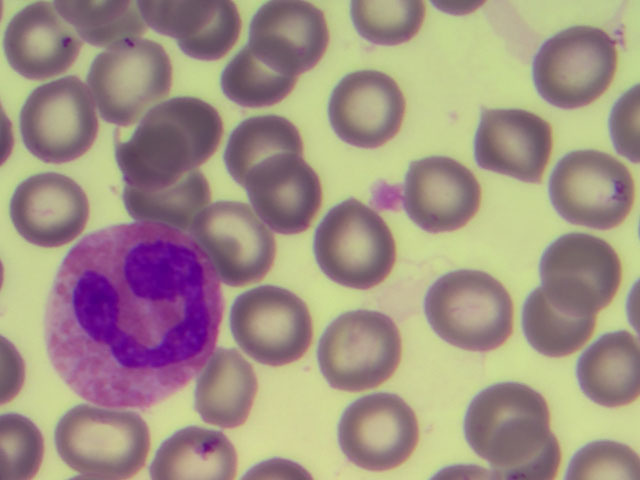Platelets: (387, 192, 401, 209)
RBC: (533, 24, 617, 113), (315, 199, 398, 287), (428, 270, 514, 351), (95, 35, 174, 123), (326, 67, 406, 153), (553, 150, 635, 233), (316, 311, 401, 391), (476, 102, 556, 187), (539, 235, 621, 316), (335, 394, 420, 471), (468, 386, 550, 464), (6, 171, 92, 245), (406, 157, 485, 237), (140, 98, 225, 170), (24, 79, 98, 161), (196, 202, 282, 270), (57, 410, 143, 475), (234, 287, 311, 356), (250, 157, 323, 229), (524, 285, 595, 359), (221, 41, 300, 107), (252, 5, 328, 70), (580, 326, 640, 407), (122, 164, 206, 221), (9, 1, 77, 70), (233, 120, 304, 186), (117, 126, 188, 191), (155, 429, 241, 480), (195, 358, 258, 426), (487, 423, 560, 480), (346, 1, 426, 48), (181, 1, 241, 60), (78, 1, 147, 45), (1, 414, 45, 480), (566, 442, 639, 480), (608, 86, 640, 172), (135, 1, 207, 27), (52, 1, 130, 23), (1, 337, 25, 406), (242, 457, 313, 480), (427, 461, 492, 480), (429, 1, 485, 19), (1, 105, 14, 163), (627, 280, 640, 334)
WBC: (45, 233, 224, 402)
